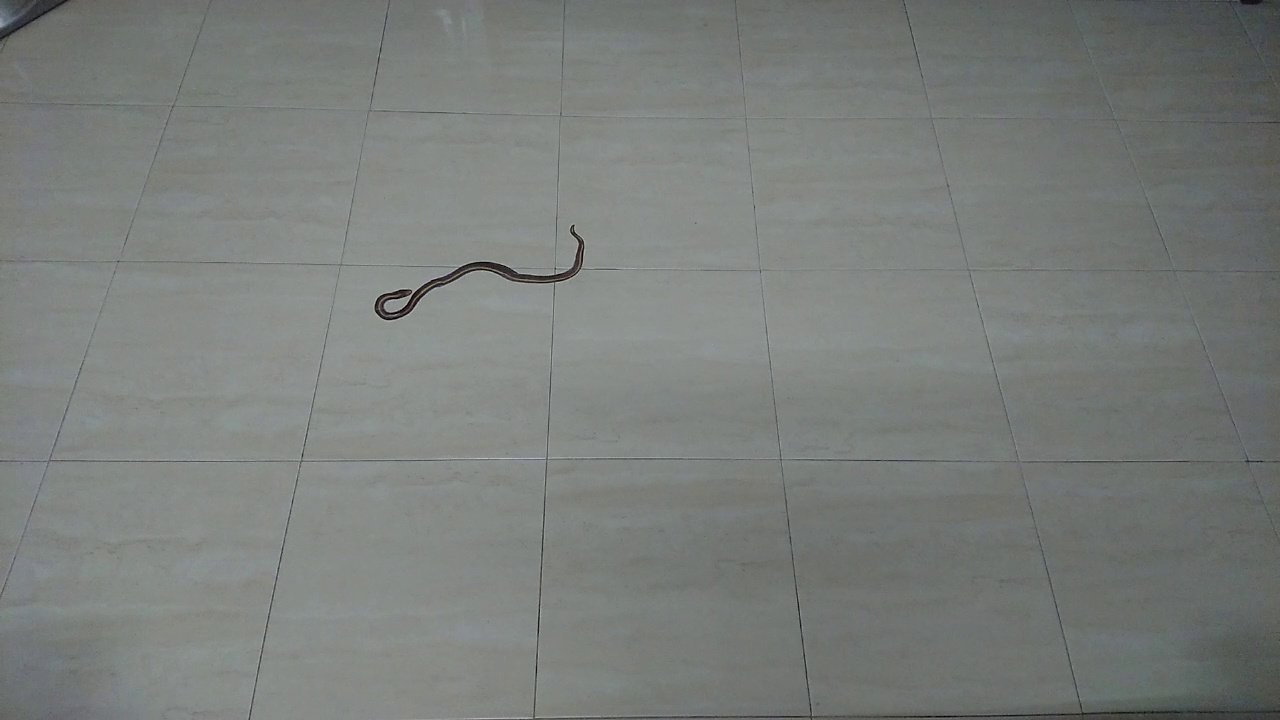snake: (363, 209, 600, 328)
